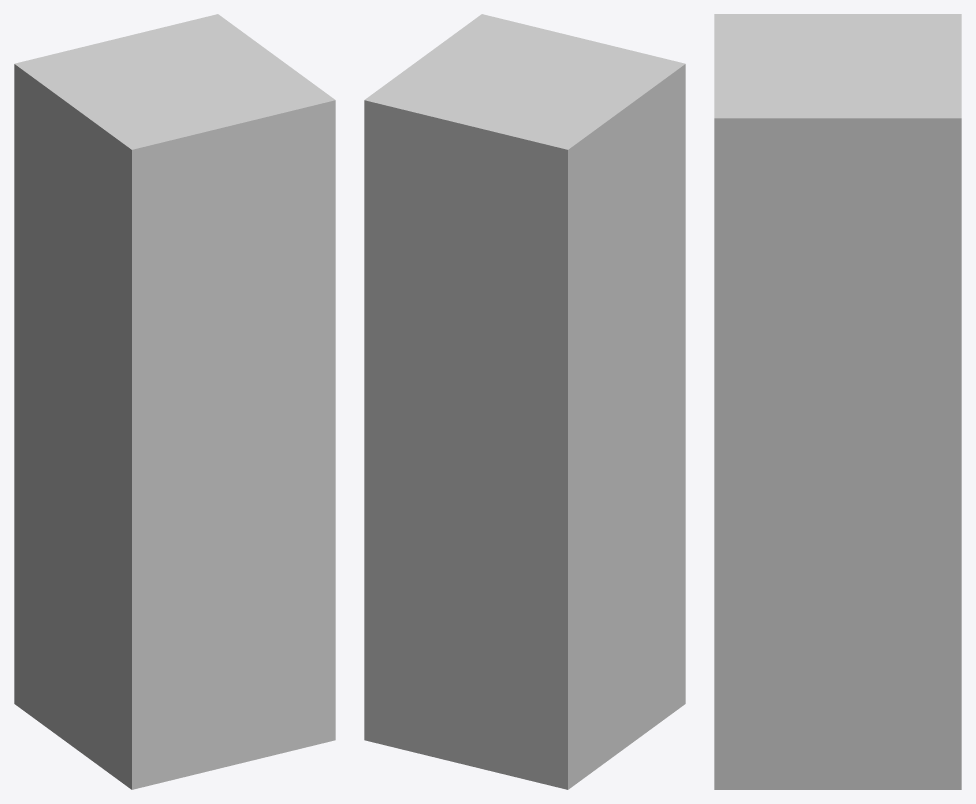
File: stalkVox.obj
3 views of the same model, side by side, from view 1: azimuth 30°, elevation 25°; view 2: azimuth 150°, elevation 25°; view 3: azimuth 270°, elevation 25° (orthographic). The views are drawn at different scales.
Size of the model in its own units: 2 by 6 by 2.
1 material, 1 textured.
